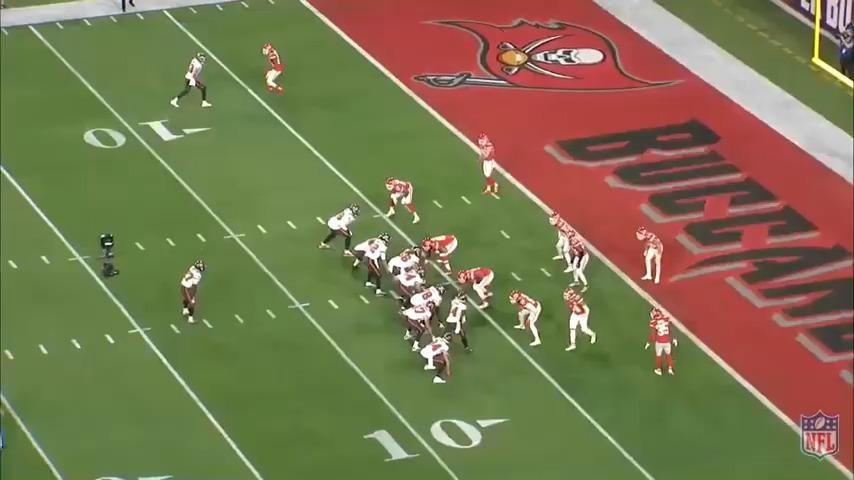player: (171, 49, 214, 111), (562, 285, 600, 353), (646, 304, 677, 378), (509, 287, 545, 348), (176, 257, 207, 327), (404, 299, 444, 352), (316, 205, 356, 255), (474, 132, 502, 201), (382, 177, 420, 226), (420, 335, 454, 389), (563, 232, 591, 294), (637, 224, 665, 285), (550, 211, 578, 271), (458, 266, 497, 309), (262, 41, 290, 100), (445, 294, 473, 353), (363, 237, 392, 293), (422, 234, 461, 274), (352, 233, 393, 271), (396, 267, 429, 299), (387, 247, 422, 277), (408, 284, 444, 310)
